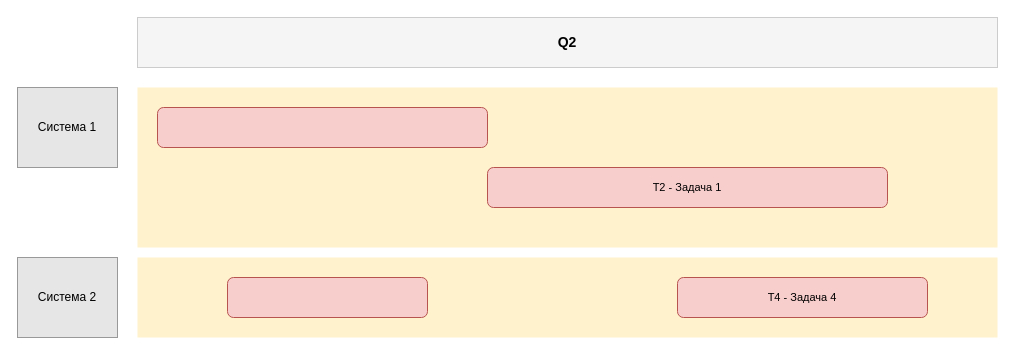
The diagram is 1015 pixels wide and 355 high, and some of its shapes have lost their labels. The centre of each missing label's shape, as x and y in pixels:
"T1 - Задача 1" belongs at (322,127).
"T3 - Задача 3" belongs at (327,297).
